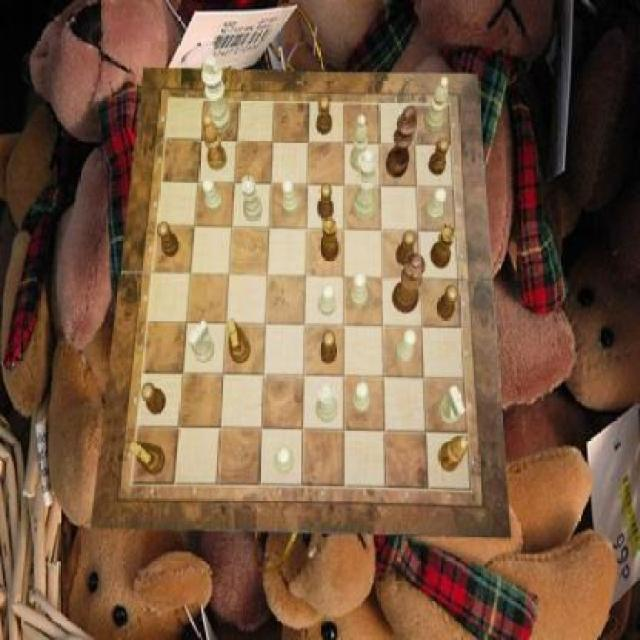bishop: (203, 116, 227, 172), (438, 436, 468, 472)
black-bishop: (386, 104, 419, 178)
black-king: (130, 442, 166, 476), (228, 318, 252, 364)
black-knight: (157, 222, 180, 258), (437, 284, 459, 320), (142, 383, 166, 415), (428, 139, 448, 176), (397, 230, 417, 266), (317, 183, 334, 222), (316, 97, 332, 135), (319, 330, 336, 364)
black-pawn: (392, 254, 426, 314)
black-queen: (431, 223, 455, 269), (320, 215, 340, 261)
black-rook: (424, 77, 448, 133), (351, 115, 368, 173)
white-bishop: (202, 56, 232, 136)
white-king: (190, 318, 216, 361), (439, 386, 466, 425)
white-knight: (426, 188, 447, 222), (396, 329, 416, 364), (203, 179, 223, 213), (351, 272, 368, 308), (283, 180, 300, 216), (354, 381, 371, 414), (319, 285, 336, 317), (276, 446, 294, 474)
white-pawn: (352, 149, 378, 222)
white-queen: (241, 175, 264, 221), (315, 385, 338, 423)
